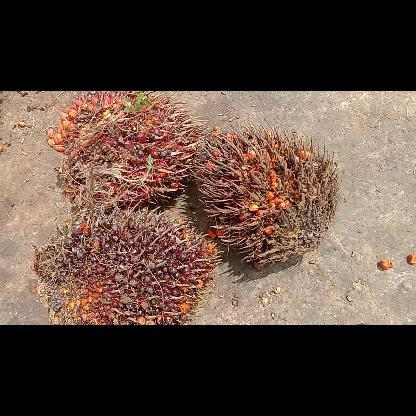Kurang masak: (31, 214, 218, 324)
TBS masak: (48, 91, 198, 209)
Terlalu masak: (198, 126, 336, 268)
